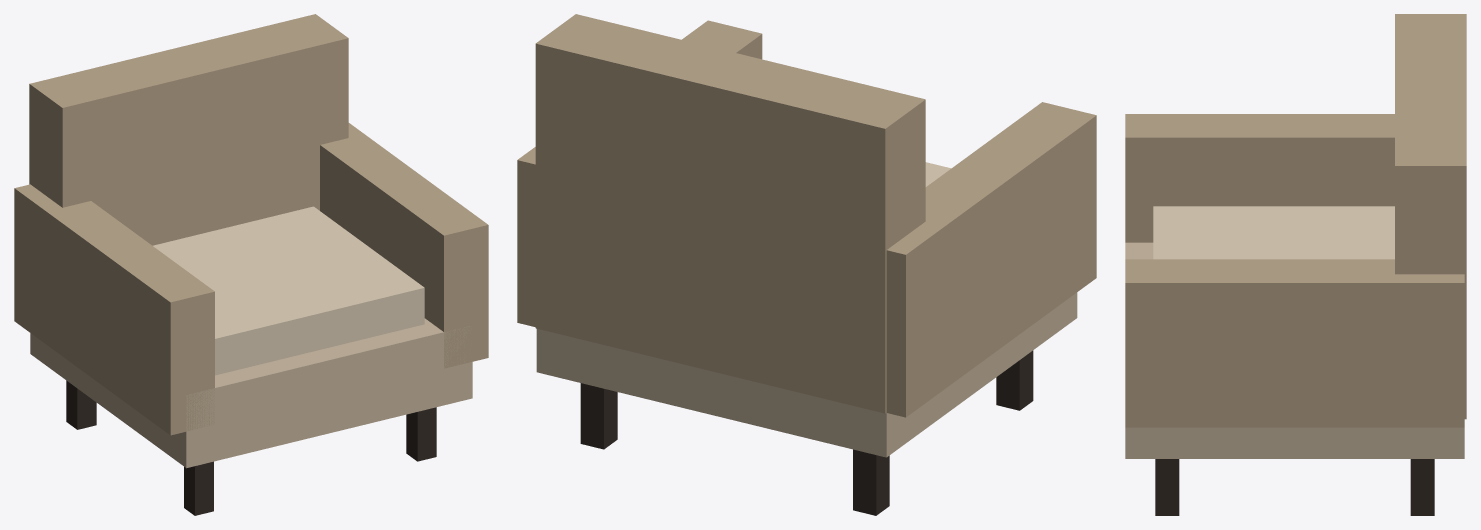
File: armchair.glb
3 views of the same model, side by side, from view 1: azimuth 30°, elevation 25°; view 2: azimuth 150°, elevation 25°; view 3: azimuth 270°, elevation 25° (orthographic). The views are drawn at different scales.
Parts seen in each view (by area): view 1: armchair; view 2: armchair; view 3: armchair.
Boxes of the visible parts, x1=… form: armchair: x1=14, y1=14, x2=488, y2=515; armchair: x1=517, y1=14, x2=1096, y2=515; armchair: x1=1125, y1=14, x2=1466, y2=515.
Size of the model in its own units: 1 by 1 by 0.855.
